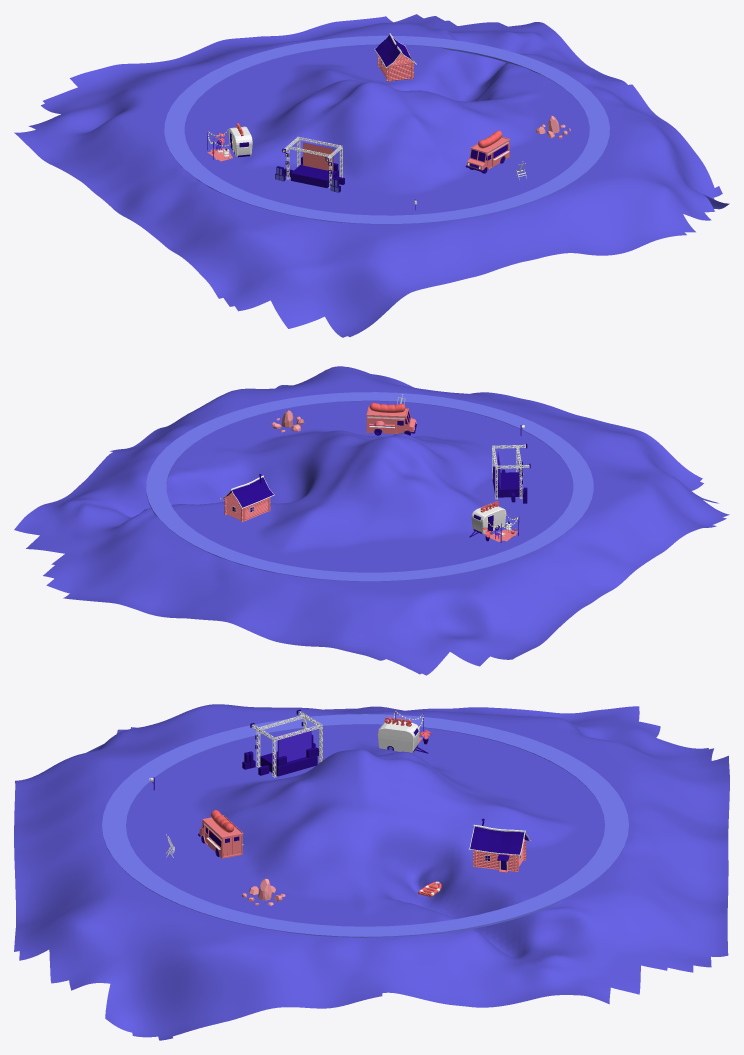
The model's file is island.glb.
3 views of the same model, one above another, from view 1: azimuth 30°, elevation 25°; view 2: azimuth 150°, elevation 25°; view 3: azimuth 270°, elevation 25° (orthographic). The views are drawn at different scales.
Visible parts, largest first — view 1: Landscape, Street, Cabin_shed, STAGEmodul_Cube, TRUCK_Cube.001, Philips_PM5544_(SECAM_variation), Camper1_Mesh.006; view 2: Landscape, Street, Cabin_shed, TRUCK_Cube.001, Camper1_Mesh.006, STAGEmodul_Cube; view 3: Landscape, Street, Cabin_shed, Camper1_Mesh.006, TRUCK_Cube.001, Philips_PM5544_(SECAM_variation), STAGEmodul_Cube.
Part boxes in pixels (box(x1,y1,x2,y2)): Landscape: box(14, 14, 729, 337); Street: box(164, 35, 609, 224); Cabin_shed: box(374, 33, 416, 81); STAGEmodul_Cube: box(291, 164, 338, 187); TRUCK_Cube.001: box(467, 136, 510, 170); Philips_PM5544_(SECAM_variation): box(303, 142, 333, 171); Camper1_Mesh.006: box(228, 126, 252, 157); Landscape: box(14, 366, 729, 675); Street: box(146, 392, 593, 581); Cabin_shed: box(219, 474, 274, 522); TRUCK_Cube.001: box(366, 406, 415, 433); Camper1_Mesh.006: box(469, 503, 506, 537); STAGEmodul_Cube: box(492, 472, 522, 497); Landscape: box(14, 704, 729, 1040); Street: box(102, 714, 628, 937); Cabin_shed: box(468, 818, 531, 872); Camper1_Mesh.006: box(377, 720, 428, 753); TRUCK_Cube.001: box(199, 815, 243, 858); Philips_PM5544_(SECAM_variation): box(278, 728, 311, 761); STAGEmodul_Cube: box(260, 751, 317, 776).
Size of what is drawn, in the model's own units: 32.56 by 7.12 by 33.47.
